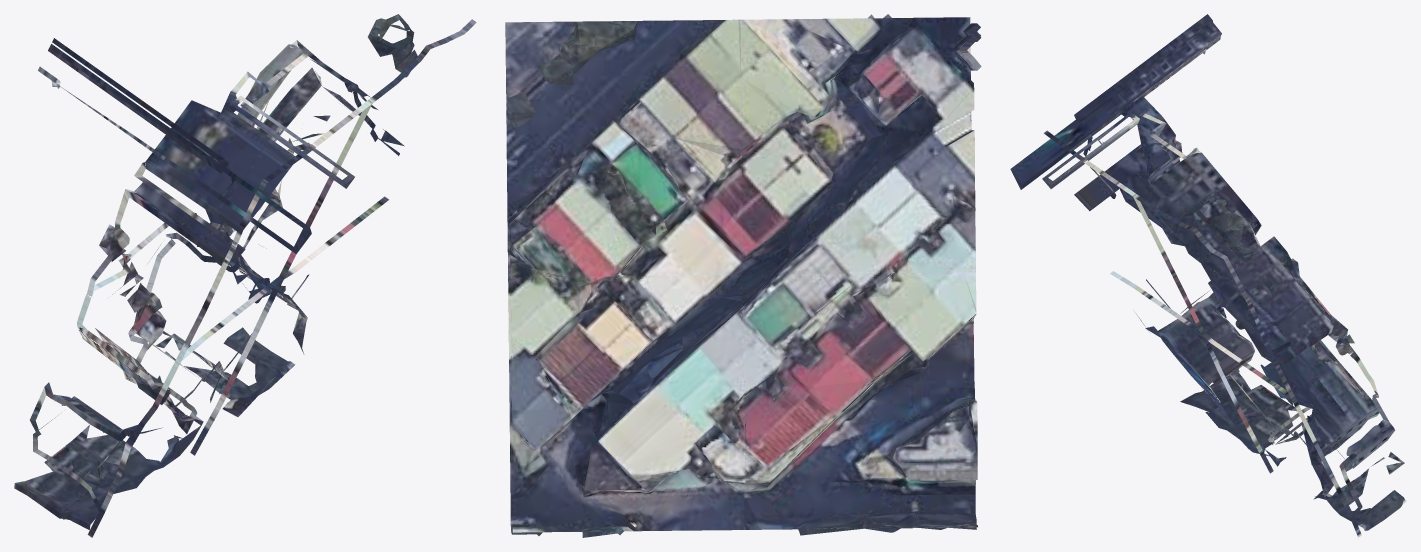
3 views of the same model, side by side, from view 1: azimuth 30°, elevation 25°; view 2: azimuth 150°, elevation 25°; view 3: azimuth 270°, elevation 25° (orthographic). The views are drawn at different scales.
Size of the model in its own units: 83.17 by 86.28 by 79.21.
1 material, 1 textured.
